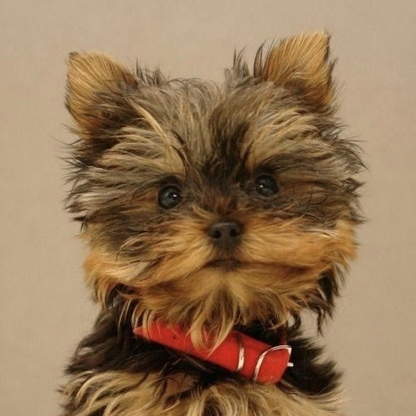yorkshire: (60, 28, 369, 416)
